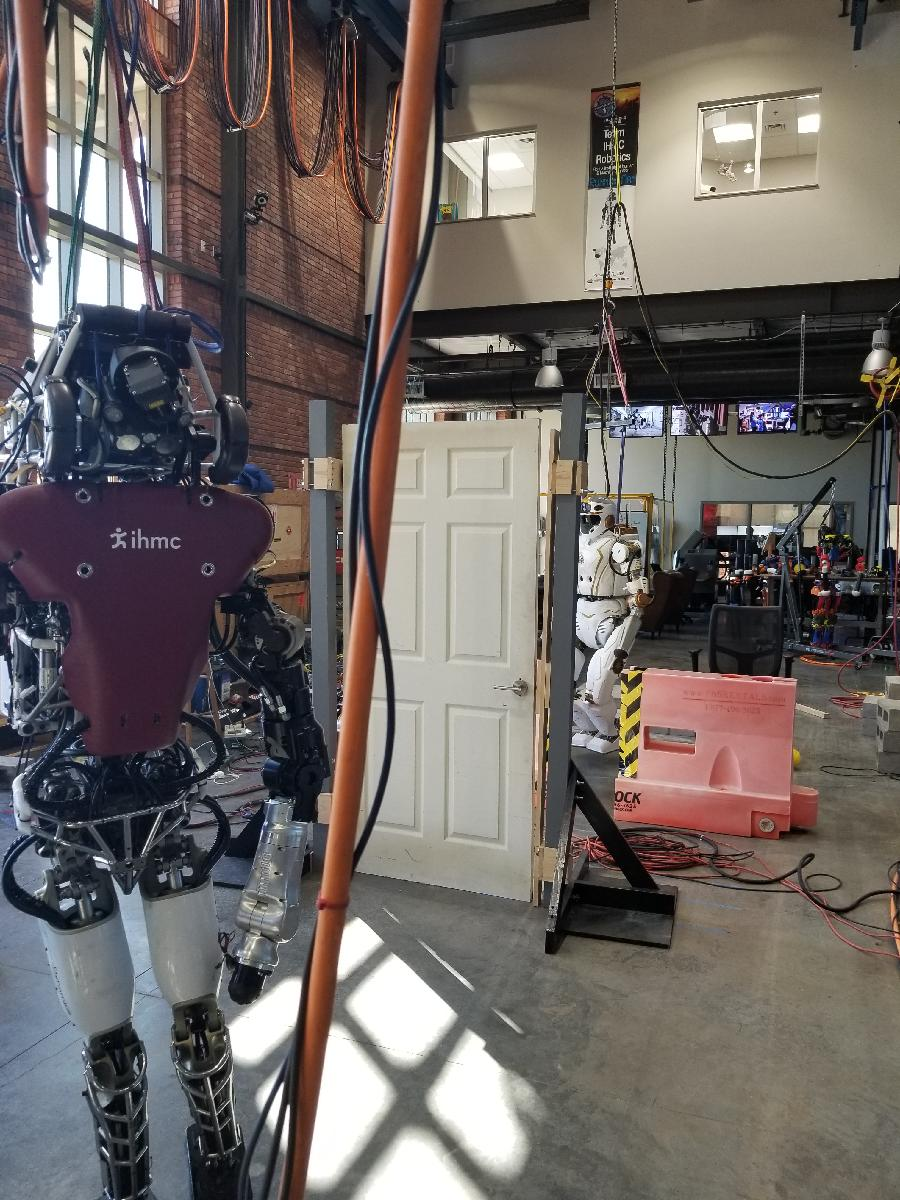door: (338, 415, 546, 913)
doorHandle: (482, 676, 529, 701)
